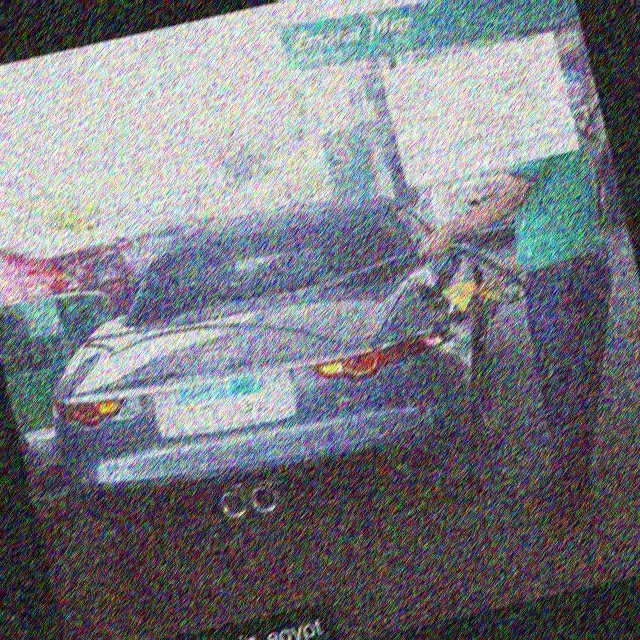License Plate: (170, 368, 275, 440)
